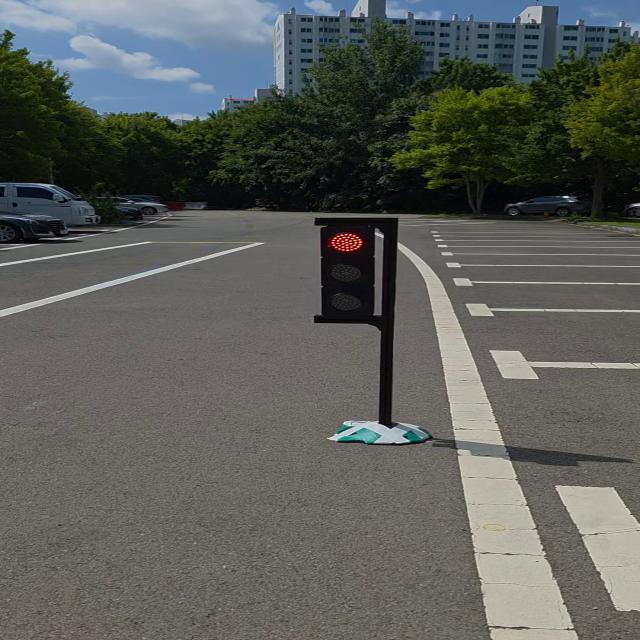red: (312, 213, 401, 329)
